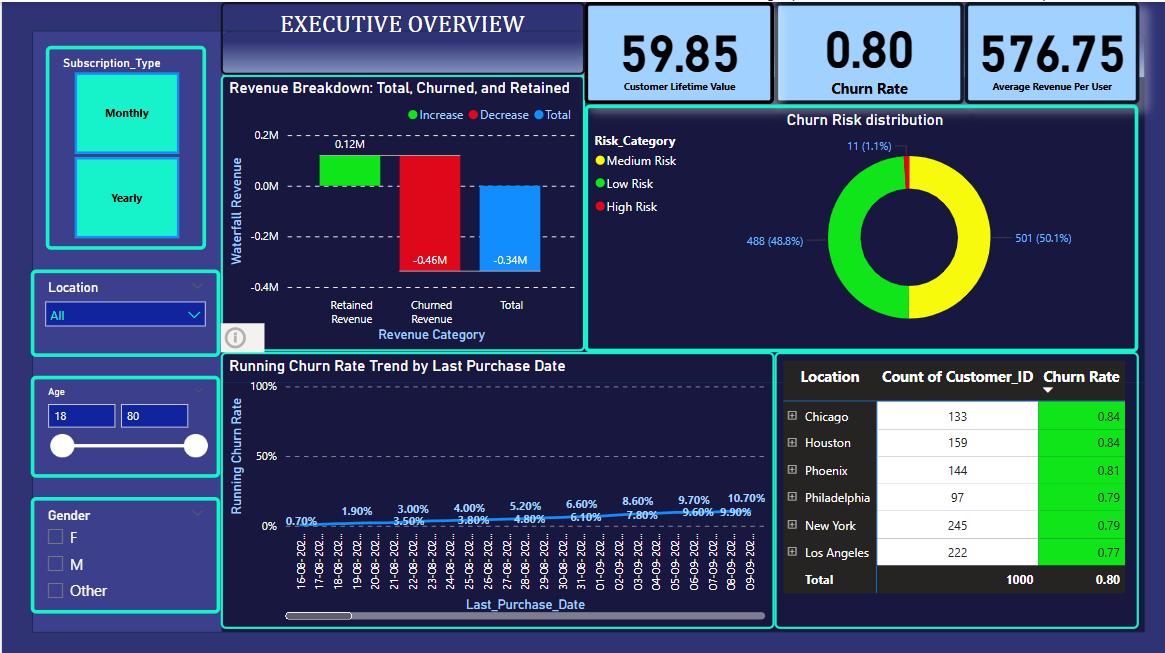

What the dashboard file says about the page in this screenshot:
{"tool":"powerbi","page":{"name":"Executive overview","canvas":[1280,720],"ordinal":0},"visuals":[{"type":"lineChart","title":"Running Churn Rate Trend by Last Purchase Date","fields":{"Y":["churn_dataset.Running Churn Rate"],"Category":["churn_dataset.Last_Purchase_Date"]},"box":[240,384,608,304],"z":0},{"type":"pivotTable","title":"Churn Rate Analysis by Location and Subscription Type","fields":{"Rows":["churn_dataset.Location","churn_dataset.Subscription_Type"],"Values":["CountNonNull(churn_dataset.Customer_ID)","churn_dataset.Churn Rate"]},"box":[848,384,400,304],"z":1000},{"type":"waterfallChart","title":"Revenue Breakdown: Total, Churned, and Retained","fields":{"Category":["churn_dataset.Revenue Category"],"Y":["churn_dataset.Waterfall Revenue"]},"box":[240,80,400,304],"z":2000},{"type":"card","fields":{"Values":["churn_dataset.Churn Rate"]},"box":[848,0,208,112],"z":3000},{"type":"card","fields":{"Values":["churn_dataset.Customer Lifetime Value"]},"box":[640,0,208,112],"z":4000},{"type":"card","fields":{"Values":["churn_dataset.Average Revenue Per User"]},"box":[1056,0,192,112],"z":5000},{"type":"slicer","fields":{"Values":["churn_dataset.Location"]},"box":[32,293.3,208,96],"z":6000},{"type":"slicer","fields":{"Values":["churn_dataset.Subscription_Type"]},"box":[48,48,176,224],"z":7000},{"type":"slicer","fields":{"Values":["churn_dataset.Age"]},"box":[32,410.7,208,112],"z":8000},{"type":"slicer","fields":{"Values":["churn_dataset.Gender"]},"box":[32,544,208,128],"z":9000},{"type":"textbox","box":[240,0,400,80],"z":10000},{"type":"actionButton","box":[240,352,48,32],"z":11000},{"type":"donutChart","title":"Churn Risk distribution","fields":{"Category":["churn_dataset.Risk_Category"],"Y":["CountNonNull(churn_dataset.Customer_ID)"]},"box":[640,112,608,272],"z":12000}]}

Visuals, with their boxes in screenshot pixels (x1, y1, x2, y2), scaled from the page's 1280x720 canvas onto the 1165x653 screenshot:
"Running Churn Rate Trend by Last Purchase Date" lineChart: <region>218, 348, 772, 624</region>
"Churn Rate Analysis by Location and Subscription Type" pivotTable: <region>772, 348, 1136, 624</region>
"Revenue Breakdown: Total, Churned, and Retained" waterfallChart: <region>218, 73, 582, 348</region>
card - churn_dataset.Churn Rate: <region>772, 0, 961, 102</region>
card - churn_dataset.Customer Lifetime Value: <region>582, 0, 772, 102</region>
card - churn_dataset.Average Revenue Per User: <region>961, 0, 1136, 102</region>
slicer - churn_dataset.Location: <region>29, 266, 218, 353</region>
slicer - churn_dataset.Subscription_Type: <region>44, 44, 204, 247</region>
slicer - churn_dataset.Age: <region>29, 372, 218, 474</region>
slicer - churn_dataset.Gender: <region>29, 493, 218, 609</region>
textbox: <region>218, 0, 582, 73</region>
actionButton: <region>218, 319, 262, 348</region>
"Churn Risk distribution" donutChart: <region>582, 102, 1136, 348</region>
